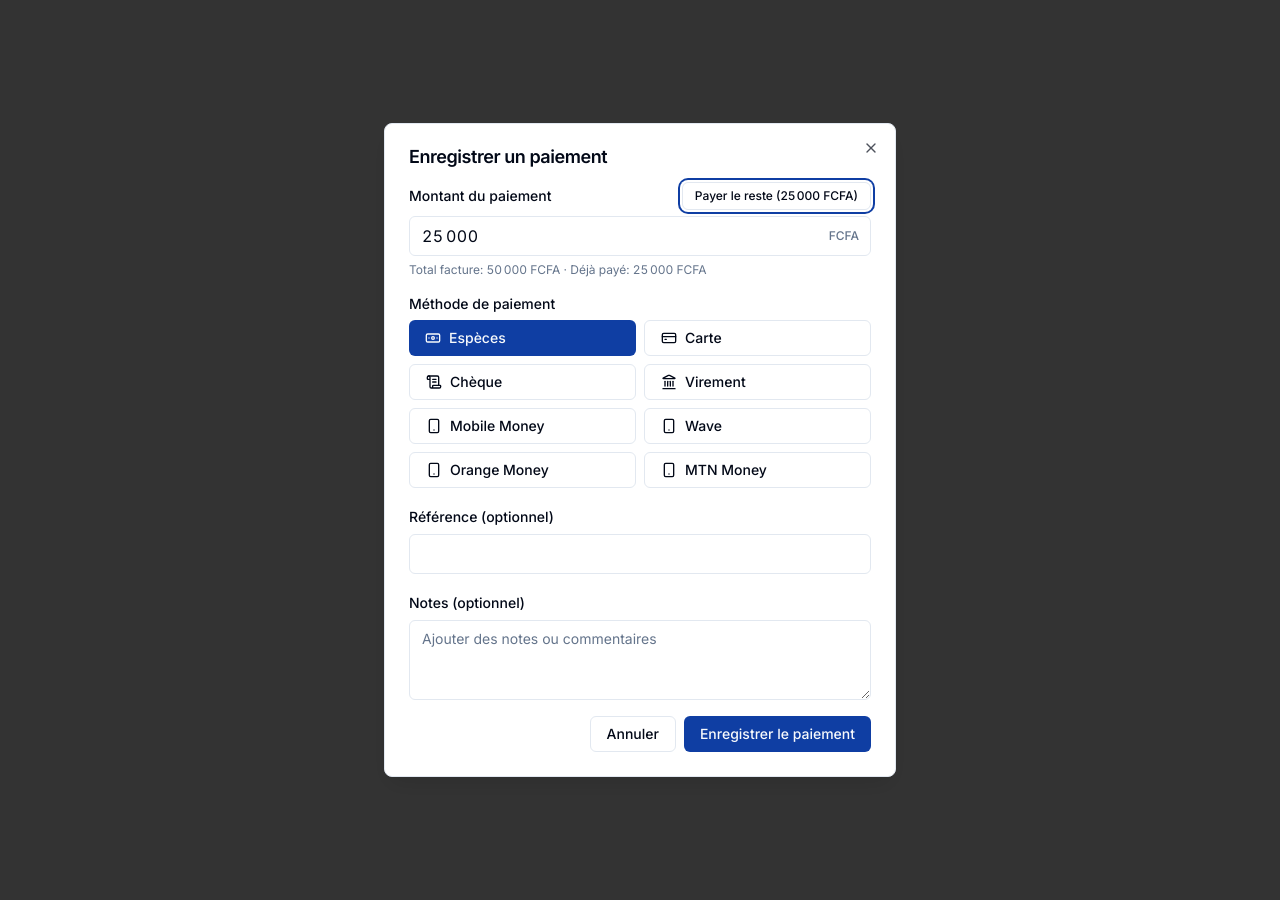
Scenario: PaymentModal validation › requires a French cheque reference inline before submitting
Click the button "Chèque" at coordinates (522, 382), box [409,364,636,400]
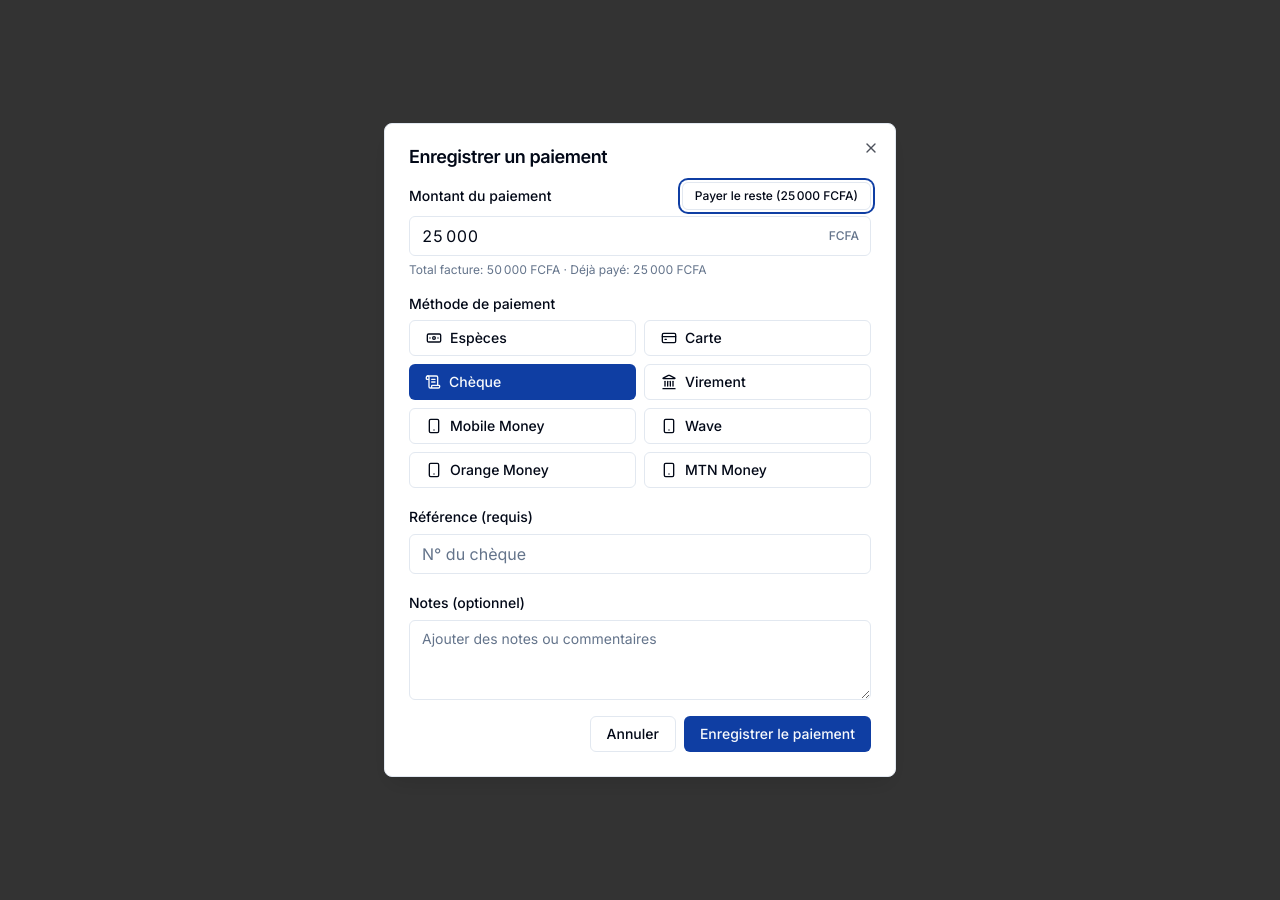
Expected: the field labelled "Référence (requis)" has attribute aria-required="true", [409,534,871,574]
Click the button "Enregistrer le paiement" at coordinates (777, 734), box [684,716,871,752]
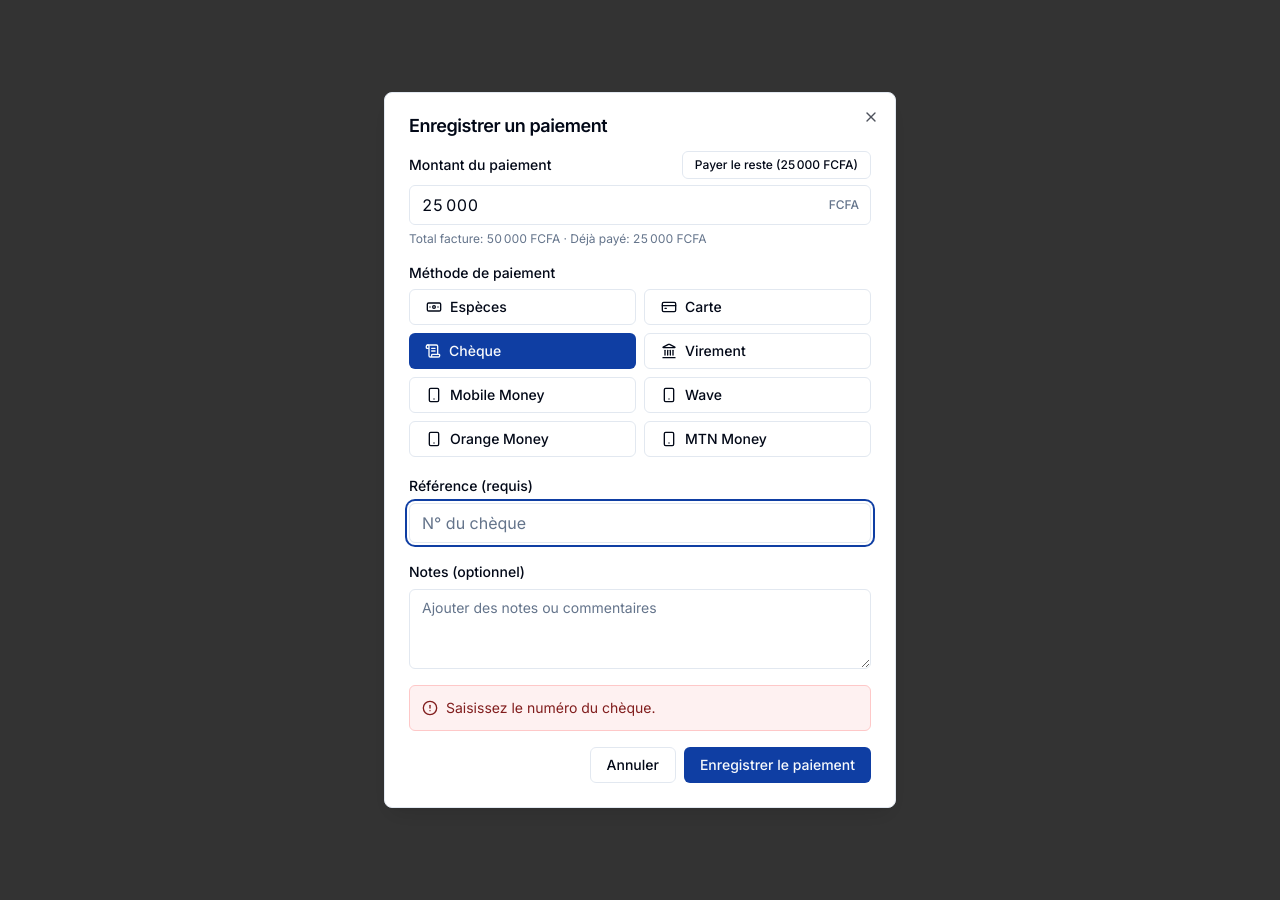
Expected: the text "Saisissez le numéro du chèque." is shown, [446,698,656,718]
